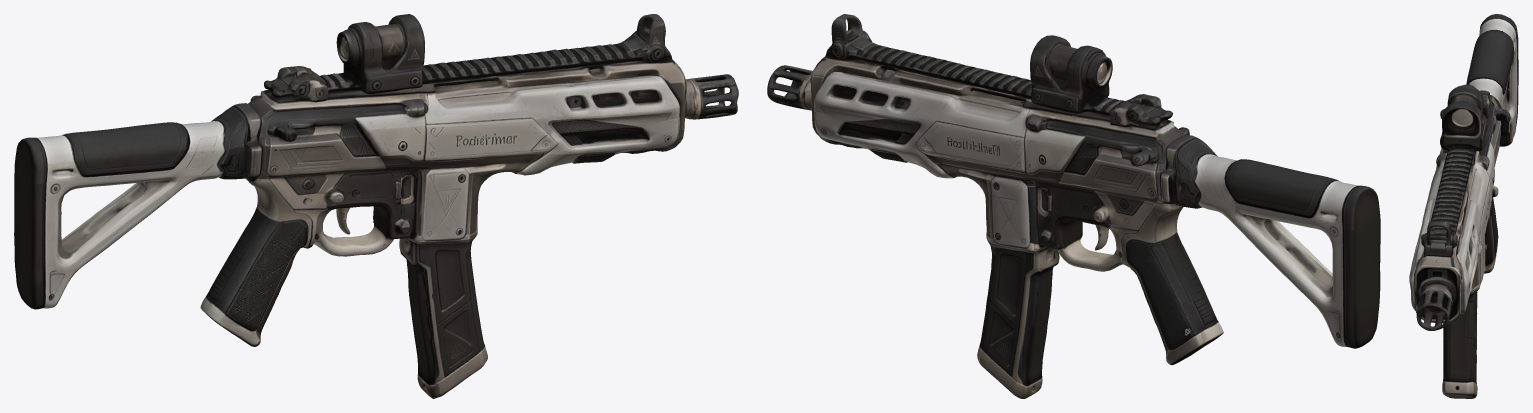
The model's file is guns__rifle.1024.glb.
The picture shows the model from 3 angles, left to right: view 1: azimuth 30°, elevation 25°; view 2: azimuth 150°, elevation 25°; view 3: azimuth 270°, elevation 25°; orthographic projection. The views are drawn at different scales.
Visible parts, largest first — view 1: tripo_node_0e42fa82-d975-447e-8cb9-cc4d89da916c; view 2: tripo_node_0e42fa82-d975-447e-8cb9-cc4d89da916c; view 3: tripo_node_0e42fa82-d975-447e-8cb9-cc4d89da916c.
Part boxes in pixels (x1,y1,x2,y2): tripo_node_0e42fa82-d975-447e-8cb9-cc4d89da916c: [14, 14, 738, 398]; tripo_node_0e42fa82-d975-447e-8cb9-cc4d89da916c: [767, 14, 1380, 398]; tripo_node_0e42fa82-d975-447e-8cb9-cc4d89da916c: [1409, 14, 1518, 398].
Bounding box in the file's own units: 0.9794 × 0.5358 × 0.184.
Materials: 1 (1 with a texture image).
